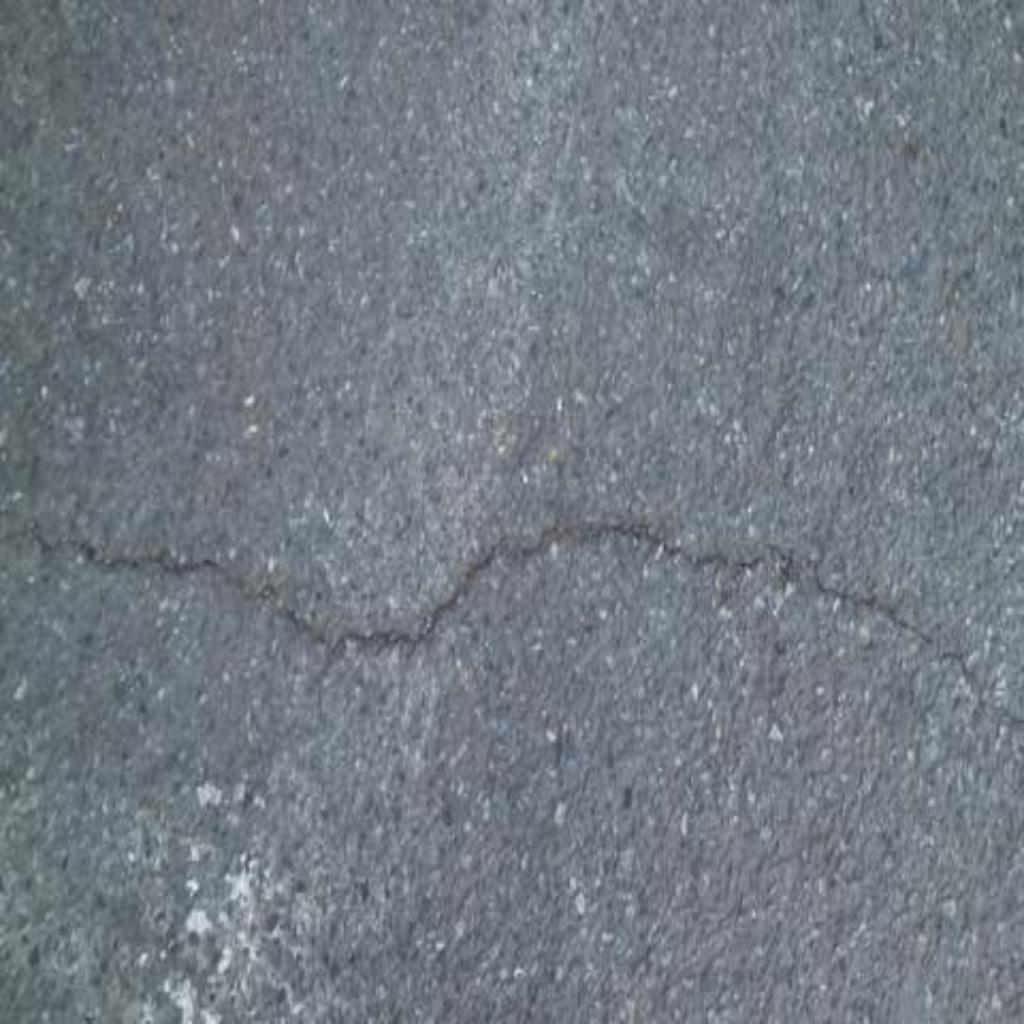Crack: (1, 519, 937, 658)
